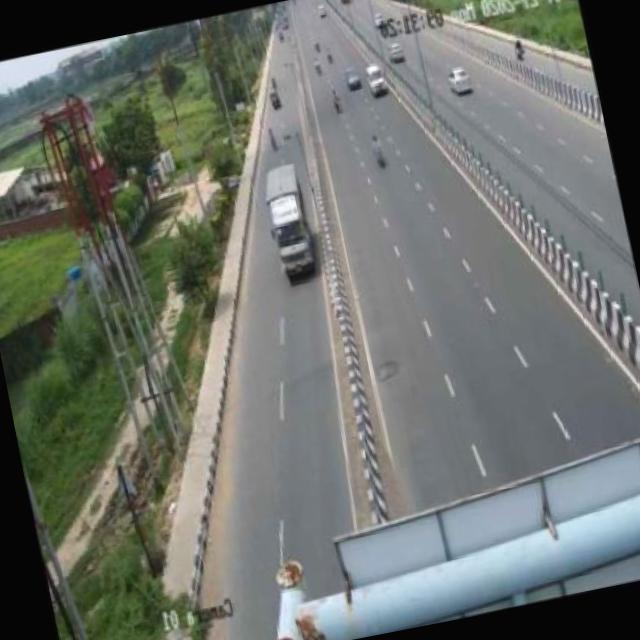car: (362, 60, 392, 102), (338, 57, 364, 94), (447, 66, 475, 96)
